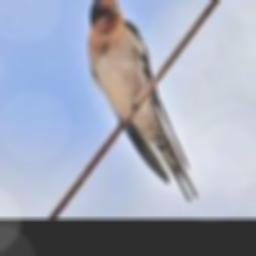Swallow: (86, 0, 197, 202)
